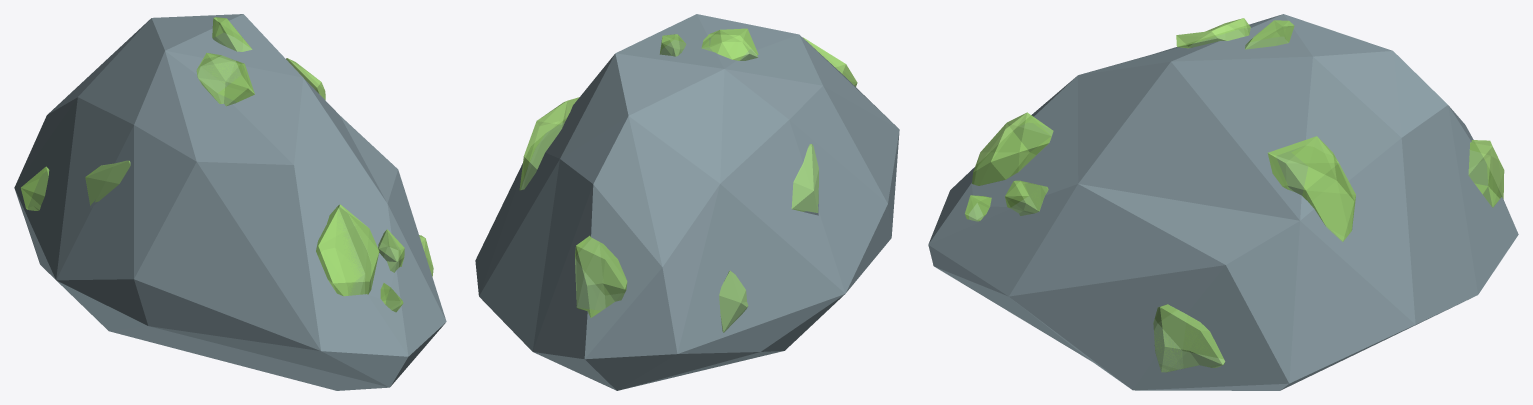
Rendered from rock-newuv.fbx.
The picture shows the model from 3 angles, left to right: view 1: azimuth 30°, elevation 25°; view 2: azimuth 150°, elevation 25°; view 3: azimuth 270°, elevation 25°; orthographic projection.
Parts seen in each view (by area): view 1: crystalRock.005; view 2: crystalRock.005; view 3: crystalRock.005.
Boxes of the visible parts, left/top/right/bottom form: crystalRock.005: left=14, top=14, right=446, bottom=390; crystalRock.005: left=475, top=14, right=899, bottom=390; crystalRock.005: left=928, top=14, right=1518, bottom=390.
Bounding box in the file's own units: 362 × 310 × 512.
